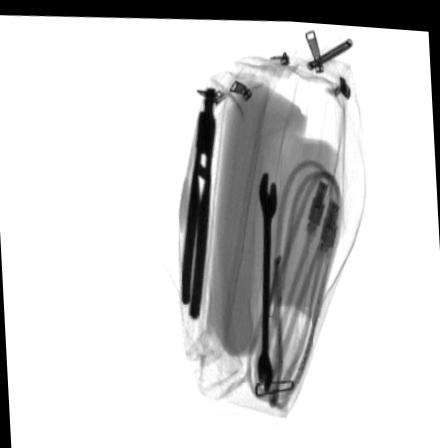Pliers: (180, 83, 218, 316)
Wrench: (255, 168, 277, 391)
